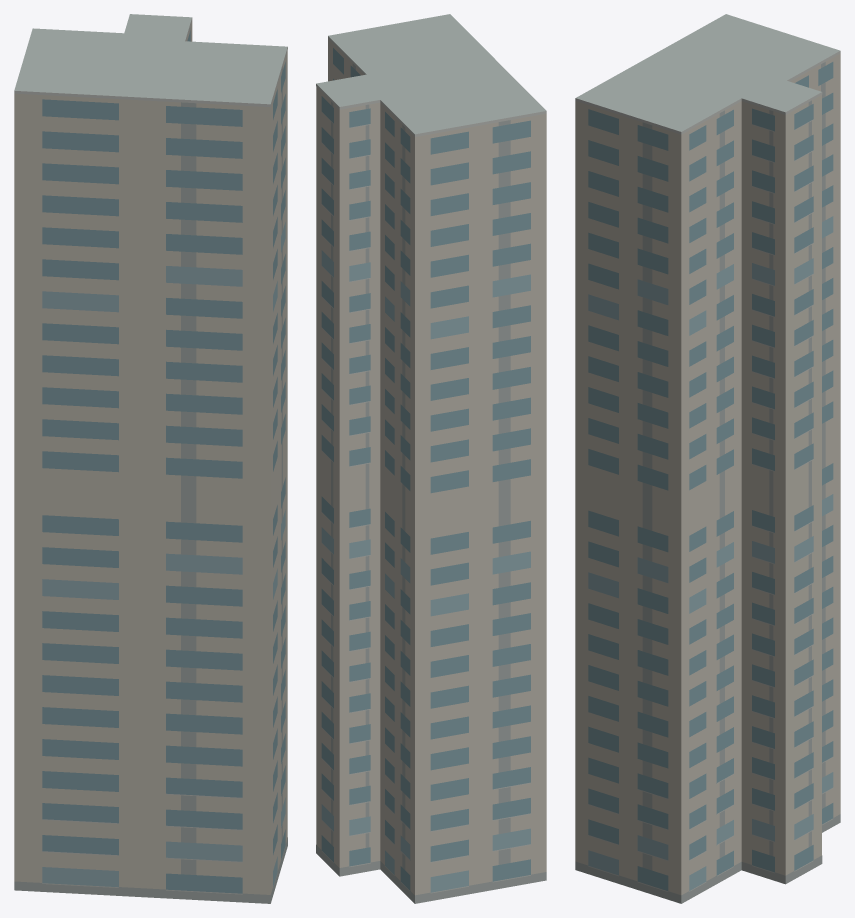
File: residential-2ff1cdc6-ae41-4a69-ad56-1c0e62d84056.glb
3 views of the same model, side by side, from view 1: azimuth 30°, elevation 25°; view 2: azimuth 150°, elevation 25°; view 3: azimuth 270°, elevation 25° (orthographic). The views are drawn at different scales.
Visible parts, largest first — view 1: residential-2ff1cdc6-ae41-4a69-ad56-1c0e62d84056.tmp; view 2: residential-2ff1cdc6-ae41-4a69-ad56-1c0e62d84056.tmp; view 3: residential-2ff1cdc6-ae41-4a69-ad56-1c0e62d84056.tmp.
Boxes of the visible parts, x1,y1,x2,y2 form: residential-2ff1cdc6-ae41-4a69-ad56-1c0e62d84056.tmp: [14, 14, 287, 903]; residential-2ff1cdc6-ae41-4a69-ad56-1c0e62d84056.tmp: [316, 14, 546, 903]; residential-2ff1cdc6-ae41-4a69-ad56-1c0e62d84056.tmp: [575, 14, 840, 903].
Size of the model in its own units: 22.62 by 69 by 21.48.
